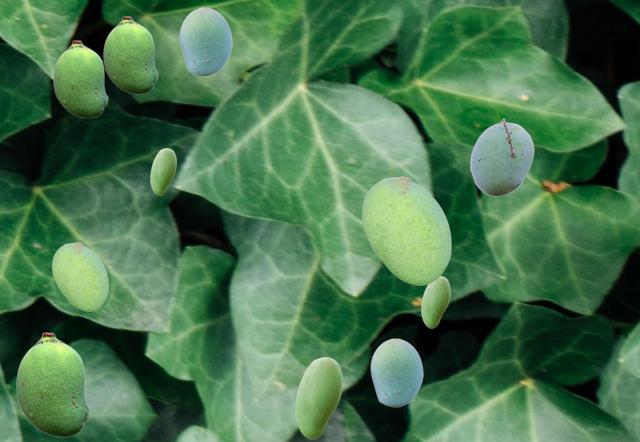green_mango: (362, 176, 450, 284), (16, 332, 89, 436), (470, 118, 533, 195), (53, 40, 107, 117), (103, 16, 157, 93), (52, 242, 107, 310), (295, 357, 341, 438), (179, 7, 231, 75), (370, 338, 422, 406), (421, 276, 449, 327), (150, 148, 175, 194)
